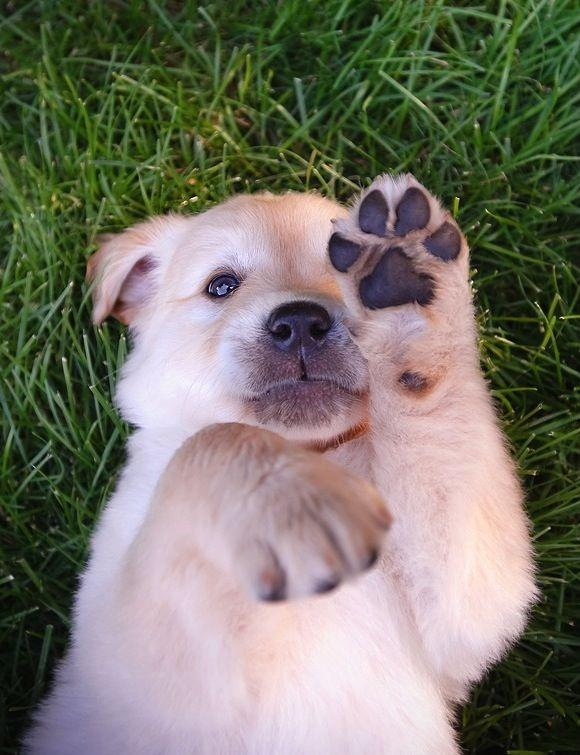puppy-dog: (16, 175, 542, 755)
